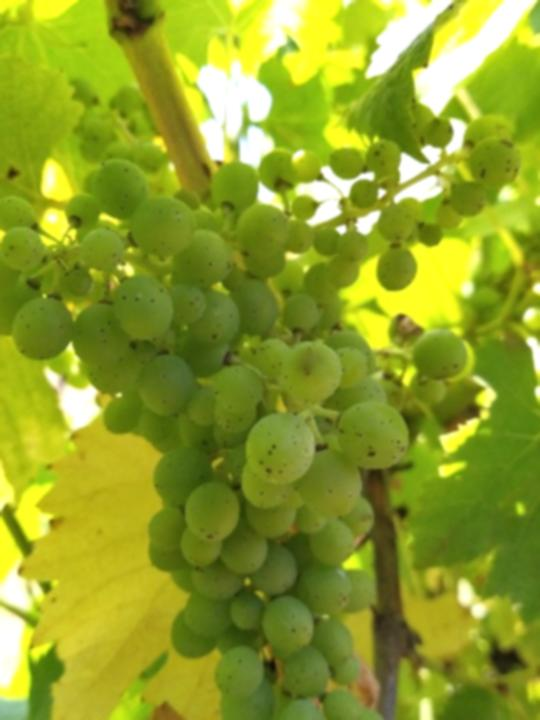grape: (0, 104, 522, 720)
